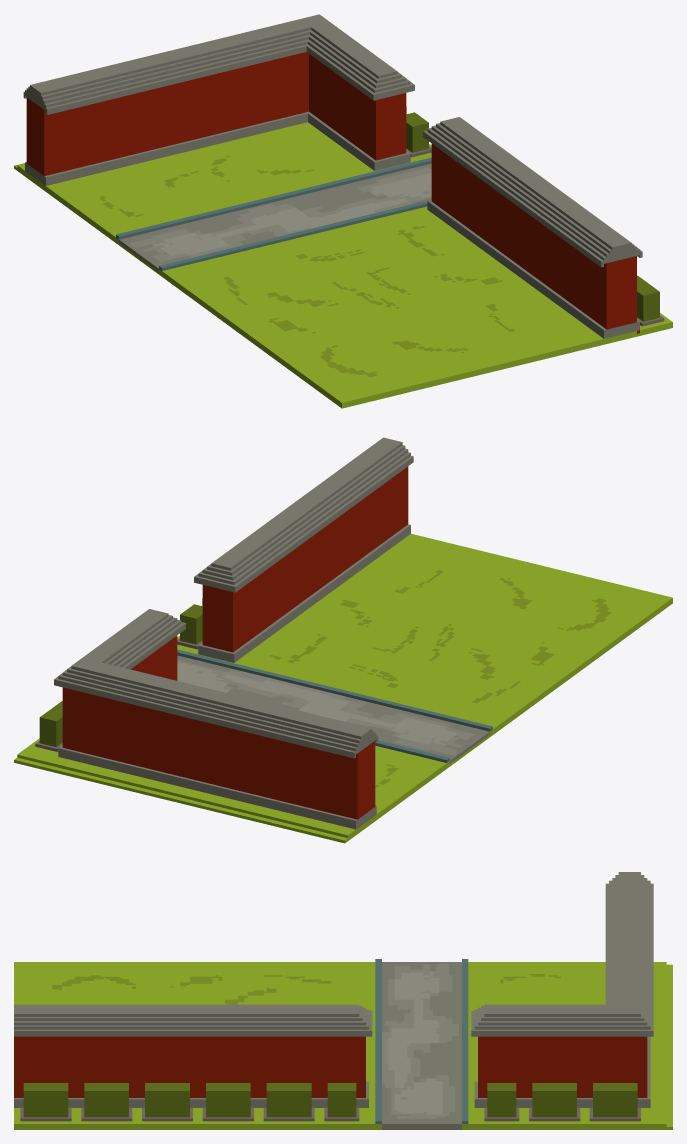
File: Map-2.obj
The picture shows the model from 3 angles, top to bottom: view 1: azimuth 30°, elevation 25°; view 2: azimuth 150°, elevation 25°; view 3: azimuth 270°, elevation 25°; orthographic projection.
Bounding box in the file's own units: 12 × 3.3 × 20.6.
Materials: 1 (1 with a texture image).
